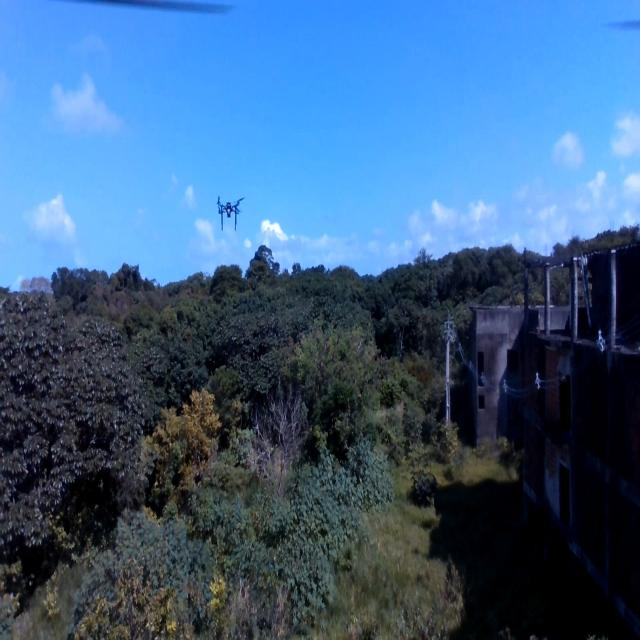-uav-: (210, 186, 250, 238)
